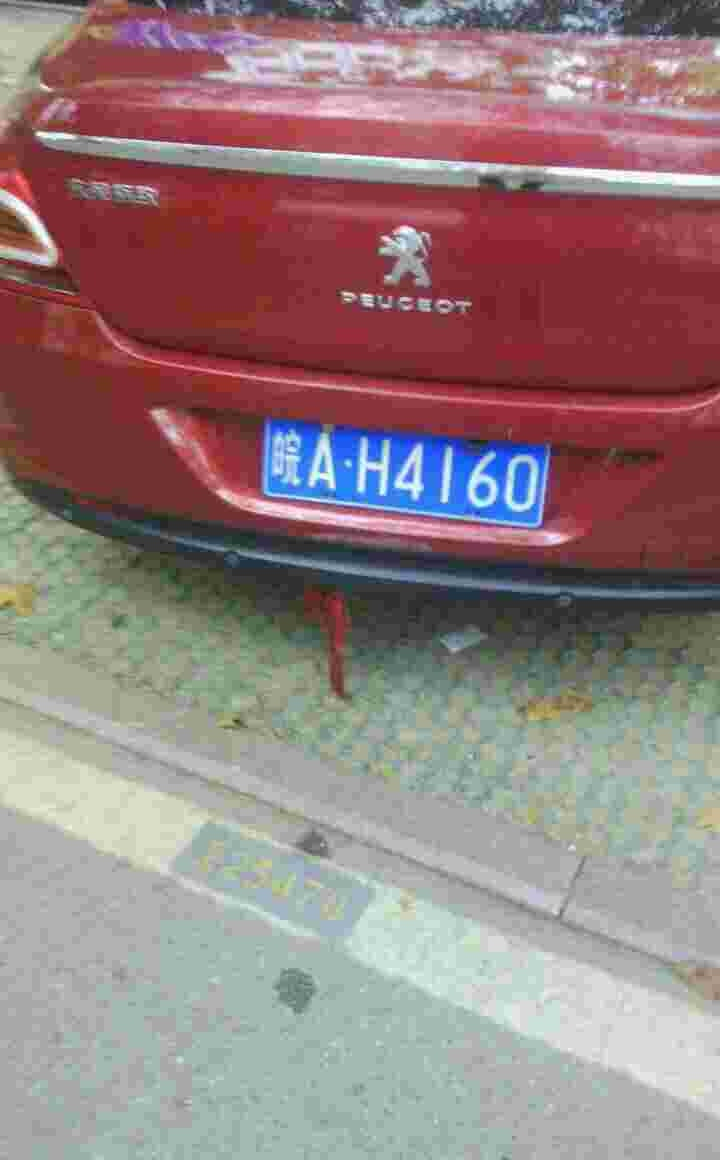license_plate: (266, 415, 542, 523)
